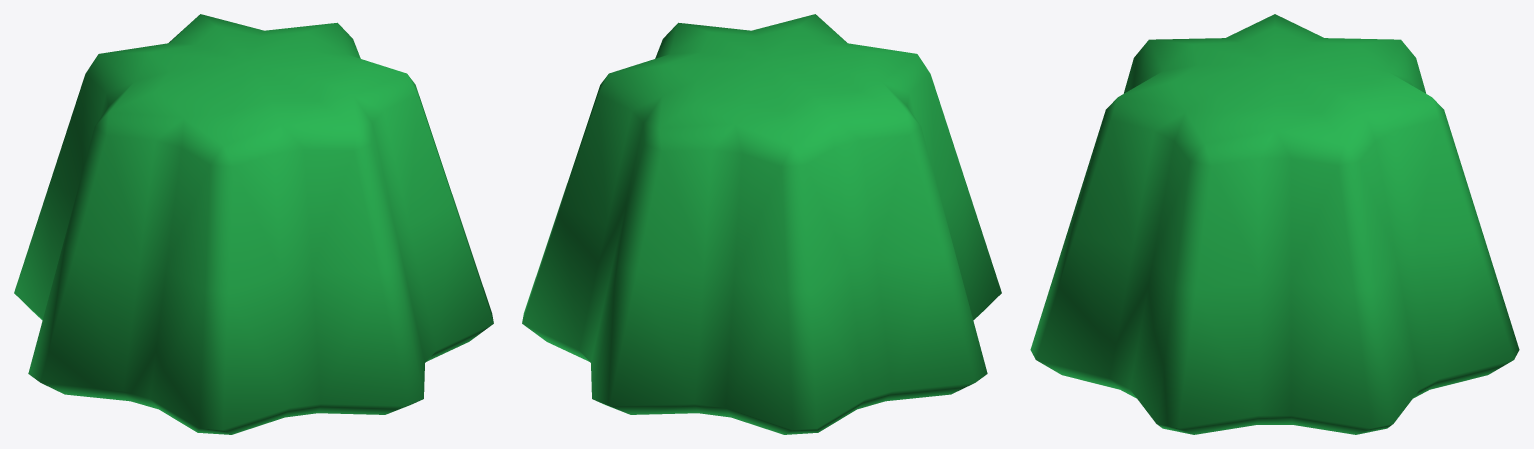
File: Jelly.FBX
3 renders of one model, left to right at view 1: azimuth 30°, elevation 25°; view 2: azimuth 150°, elevation 25°; view 3: azimuth 270°, elevation 25°, orthographic.
Parts seen in each view (by area): view 1: Cylinder001; view 2: Cylinder001; view 3: Cylinder001.
Boxes of the visible parts, x1=… form: Cylinder001: x1=14, y1=14, x2=493, y2=434; Cylinder001: x1=522, y1=14, x2=1001, y2=434; Cylinder001: x1=1030, y1=14, x2=1519, y2=434.
Size of the model in its own units: 1.9 by 1.23 by 1.94.
Materials: 1 (1 with a texture image).
